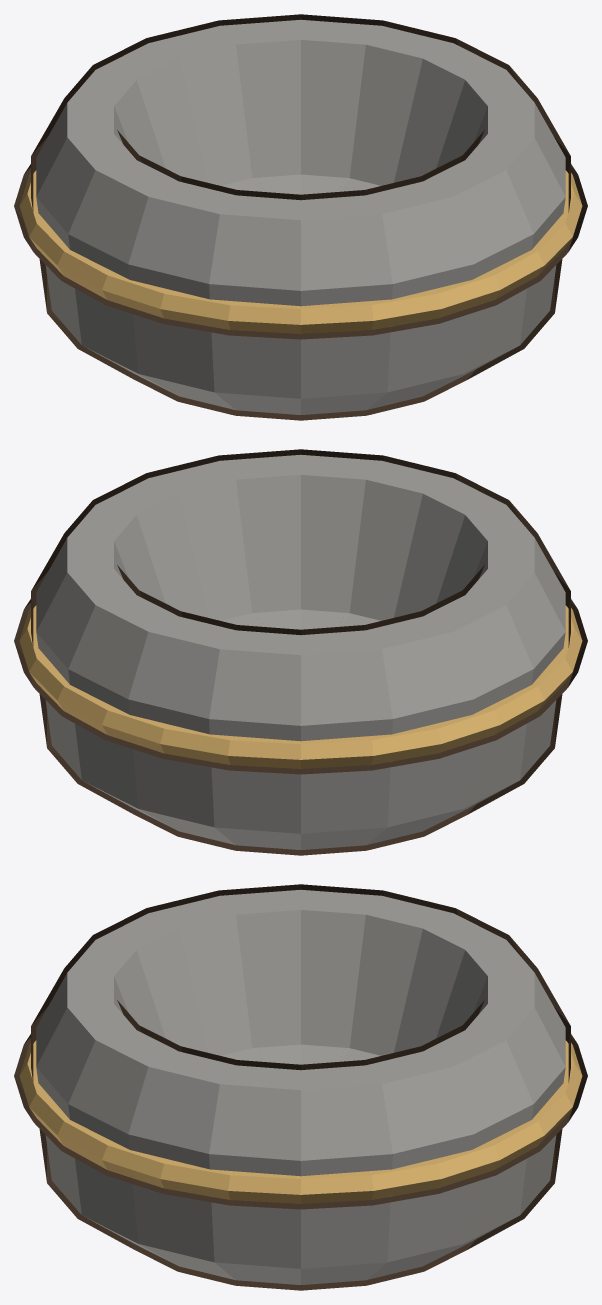
File: mortar.glb
The picture shows the model from 3 angles, top to bottom: view 1: azimuth 30°, elevation 25°; view 2: azimuth 150°, elevation 25°; view 3: azimuth 270°, elevation 25°; orthographic projection.
Parts seen in each view (by area): view 1: Mortar, MortarBand; view 2: Mortar, MortarBand; view 3: Mortar, MortarBand.
Boxes of the visible parts, bbox=[...] form: Mortar: bbox=[31, 14, 570, 420]; MortarBand: bbox=[14, 164, 587, 339]; Mortar: bbox=[31, 449, 570, 855]; MortarBand: bbox=[14, 599, 587, 774]; Mortar: bbox=[31, 884, 570, 1290]; MortarBand: bbox=[14, 1034, 587, 1209].
Size of the model in its own units: 0.363 by 0.1563 by 0.363.
